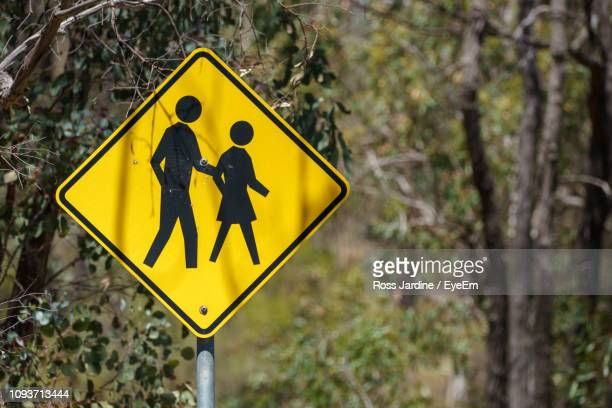pedestrian: (56, 48, 349, 337)
